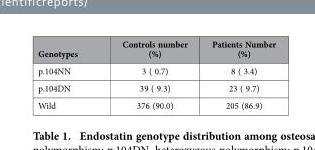table: (37, 37, 275, 111)
table column: (99, 37, 199, 111), (199, 37, 275, 111), (37, 37, 99, 111)
table column header: (37, 37, 275, 61)
table row: (37, 37, 275, 61), (37, 61, 275, 79), (37, 79, 275, 96), (37, 96, 275, 111)
